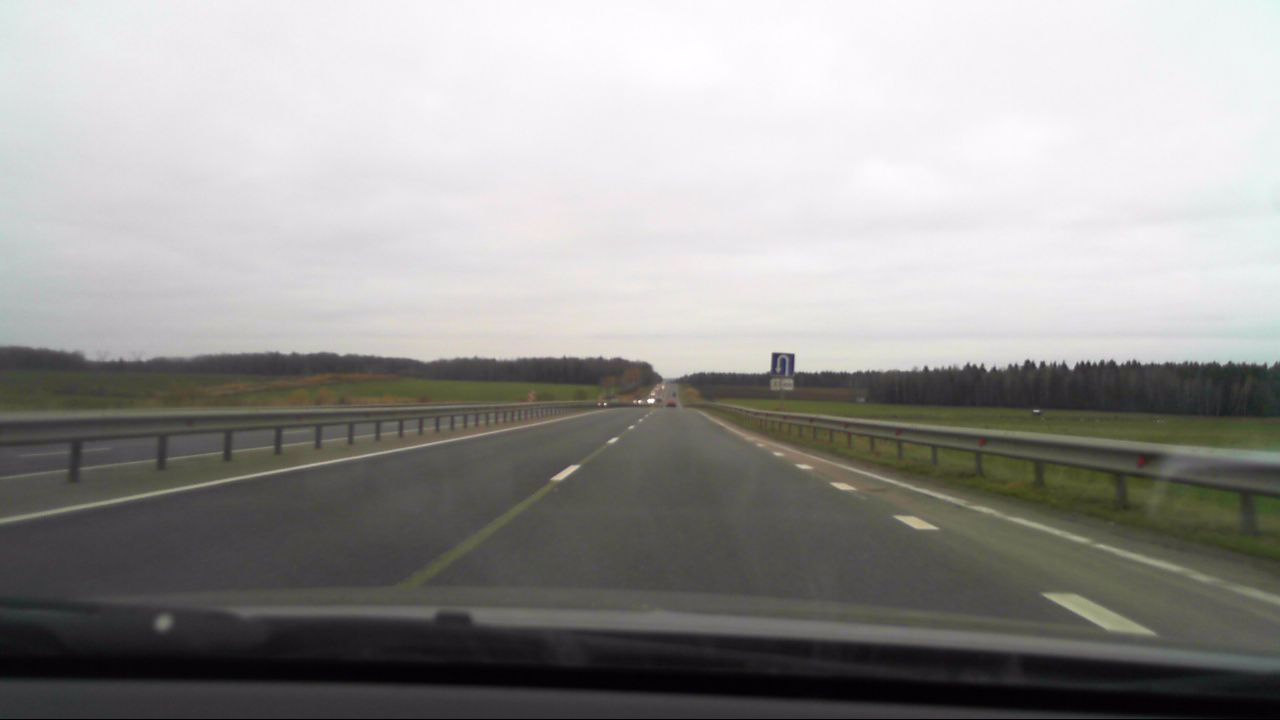U-turn: (772, 353, 794, 376)
